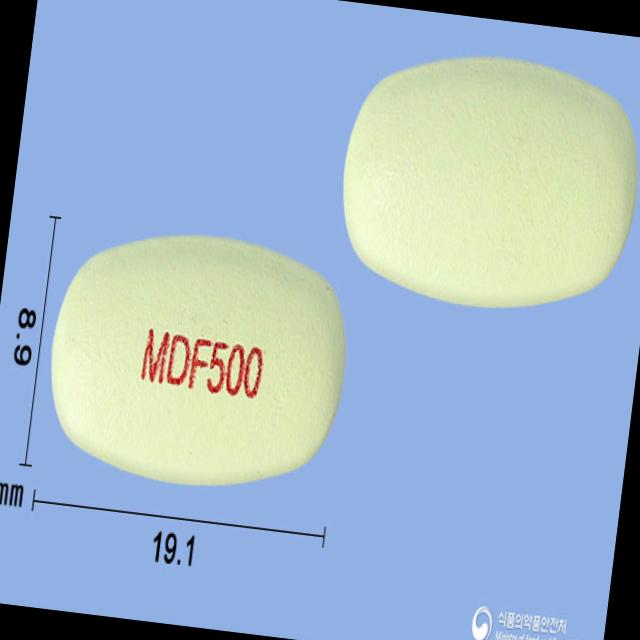Clarid: (32, 207, 362, 510)
